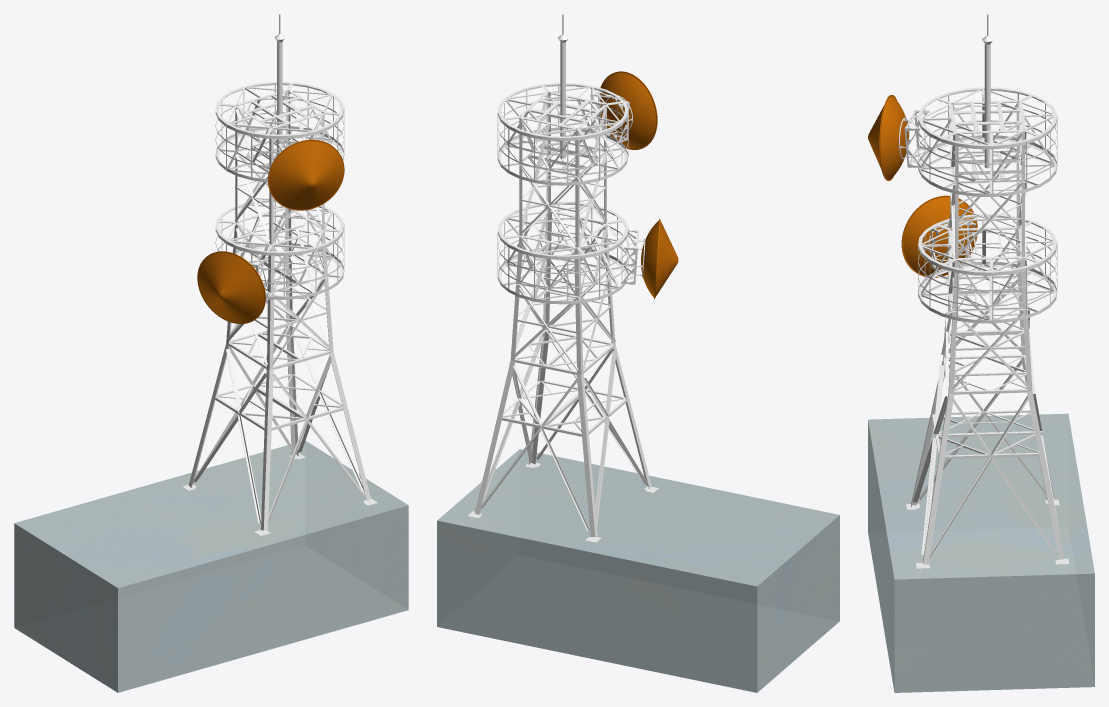
File: ang国頭局.glb
3 views of the same model, side by side, from view 1: azimuth 30°, elevation 25°; view 2: azimuth 150°, elevation 25°; view 3: azimuth 270°, elevation 25° (orthographic). The views are drawn at different scales.
Visible parts, largest first — view 1: group_400, group_370.002, group_370.005, group_4, group_346.001, group_185.001, group_64, group_18, group_93; view 2: group_400, group_371, group_18, group_346.001, group_185.001, group_93, group_370.005, group_371.003, group_96, group_64, group_4; view 3: group_400, group_371.003, group_371, group_346.001, group_185.001, group_64, group_96, group_93, group_29, group_273.001, group_4, group_273.002 (+13 smaller).
Part boxes in pixels (x1=…): group_400: x1=14, y1=440, x2=408, y2=692; group_370.002: x1=269, y1=141, x2=343, y2=209; group_370.005: x1=198, y1=252, x2=264, y2=322; group_4: x1=261, y1=368, x2=273, y2=530; group_346.001: x1=215, y1=81, x2=344, y2=139; group_185.001: x1=215, y1=199, x2=344, y2=255; group_64: x1=329, y1=352, x2=370, y2=500; group_18: x1=188, y1=343, x2=229, y2=487; group_93: x1=286, y1=325, x2=298, y2=456; group_400: x1=437, y1=449, x2=839, y2=692; group_371: x1=600, y1=72, x2=656, y2=148; group_18: x1=576, y1=373, x2=597, y2=536; group_346.001: x1=498, y1=83, x2=628, y2=140; group_185.001: x1=498, y1=201, x2=628, y2=259; group_93: x1=475, y1=360, x2=515, y2=514; group_370.005: x1=655, y1=220, x2=678, y2=297; group_371.003: x1=641, y1=220, x2=659, y2=297; group_96: x1=497, y1=246, x2=628, y2=304; group_64: x1=528, y1=331, x2=549, y2=464; group_4: x1=612, y1=345, x2=651, y2=488; group_400: x1=868, y1=413, x2=1094, y2=692; group_371.003: x1=903, y1=197, x2=976, y2=275; group_371: x1=880, y1=96, x2=908, y2=179; group_346.001: x1=918, y1=87, x2=1057, y2=149; group_185.001: x1=918, y1=214, x2=1057, y2=275; group_64: x1=923, y1=392, x2=954, y2=564; group_96: x1=918, y1=261, x2=1057, y2=323; group_93: x1=1027, y1=391, x2=1064, y2=559; group_29: x1=984, y1=44, x2=990, y2=168; group_273.001: x1=918, y1=135, x2=1057, y2=196; group_4: x1=911, y1=359, x2=945, y2=507; group_273.002: x1=919, y1=135, x2=1056, y2=178.
Size of the model in its own units: 14.07 by 25.04 by 8.13.
